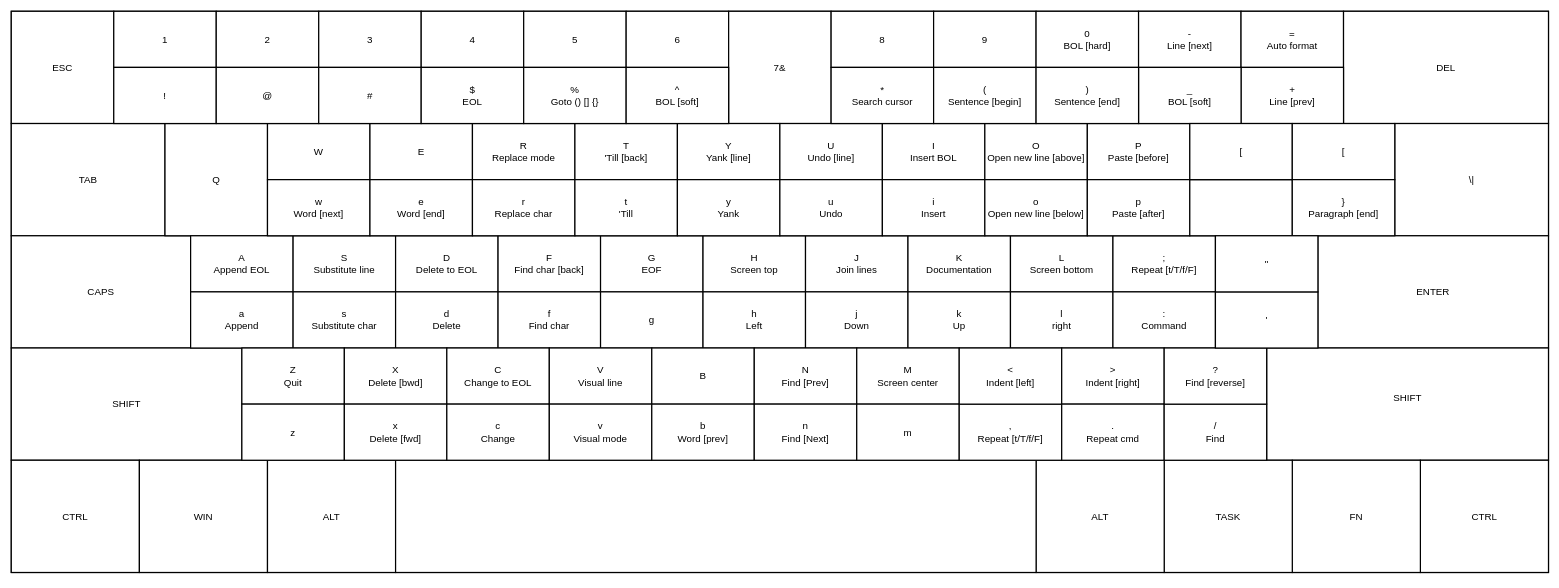
This 1559x588 diagram has some shape labels left out. Here are the shapes that lost their labels. From the top down, the centre of each, then its label:
the point at 1241,207: { Paragraph [being]
the point at 715,516: SPACE
